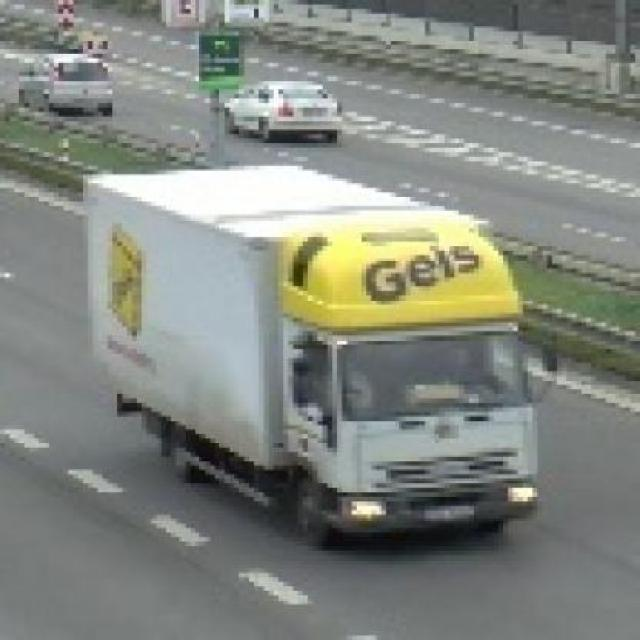truck: (89, 158, 558, 547)
